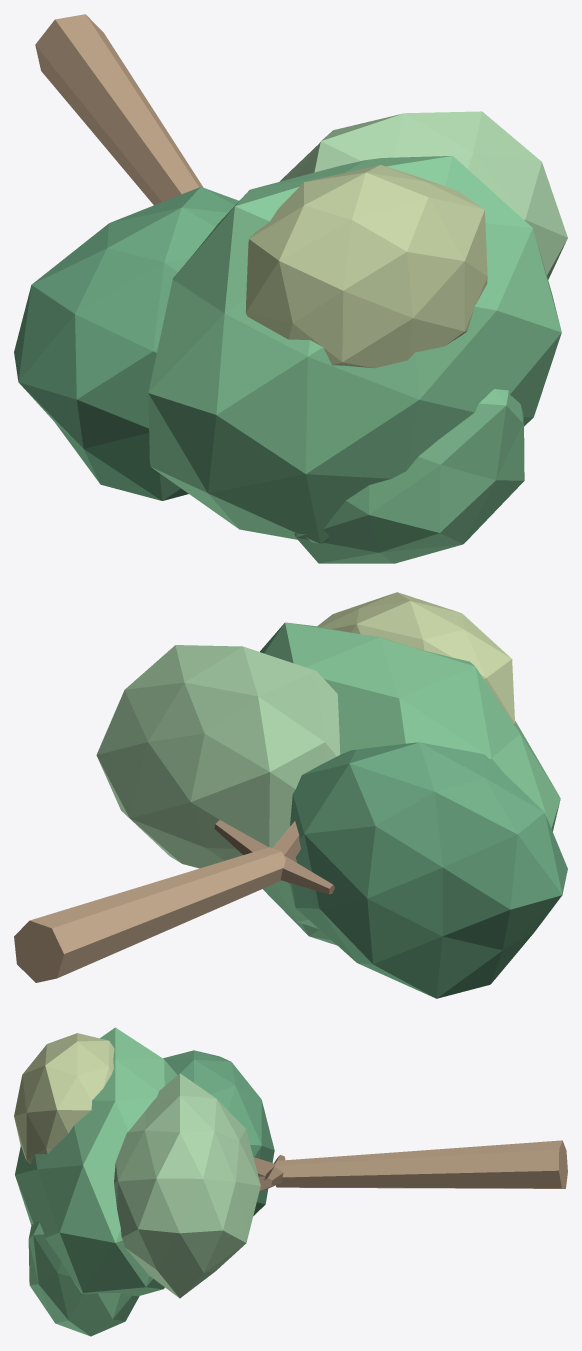
Rendered from tree_young.glb.
3 renders of one model, top to bottom at view 1: azimuth 30°, elevation 25°; view 2: azimuth 150°, elevation 25°; view 3: azimuth 270°, elevation 25°, orthographic. The views are drawn at different scales.
Visible parts, largest first — view 1: tree_young_leaf_mid, tree_young_leaf_sage, tree_young_leaf_dark, tree_young_leaf_light, tree_young_bark; view 2: tree_young_leaf_dark, tree_young_leaf_light, tree_young_leaf_mid, tree_young_bark, tree_young_leaf_sage, tree_young_bark_dark; view 3: tree_young_leaf_mid, tree_young_leaf_light, tree_young_bark, tree_young_leaf_sage, tree_young_leaf_dark, tree_young_bark_dark.
Boxes of the visible parts, x1,y1,x2,y2 form: tree_young_leaf_mid: (148,156,561,563); tree_young_leaf_sage: (245,165,487,368); tree_young_leaf_dark: (14,187,238,500); tree_young_leaf_light: (279,111,567,279); tree_young_bark: (35,14,203,205); tree_young_leaf_dark: (289,742,567,998); tree_young_leaf_light: (96,645,340,868); tree_young_leaf_mid: (260,622,560,945); tree_young_bark: (14,847,285,982); tree_young_leaf_sage: (317,592,515,724); tree_young_bark_dark: (214,820,334,894); tree_young_leaf_mid: (15,1027,177,1336); tree_young_leaf_light: (114,1073,260,1298); tree_young_bark: (274,1140,567,1188); tree_young_leaf_sage: (14,1033,114,1163); tree_young_leaf_dark: (163,1050,274,1215); tree_young_bark_dark: (253,1155,285,1191).
Bounding box in the file's own units: 2.47 × 1.85 × 3.38.
